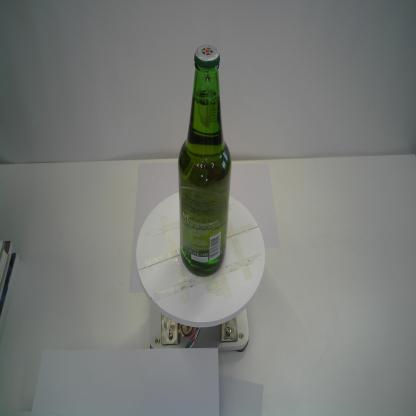Alcohol: (174, 41, 232, 278)
